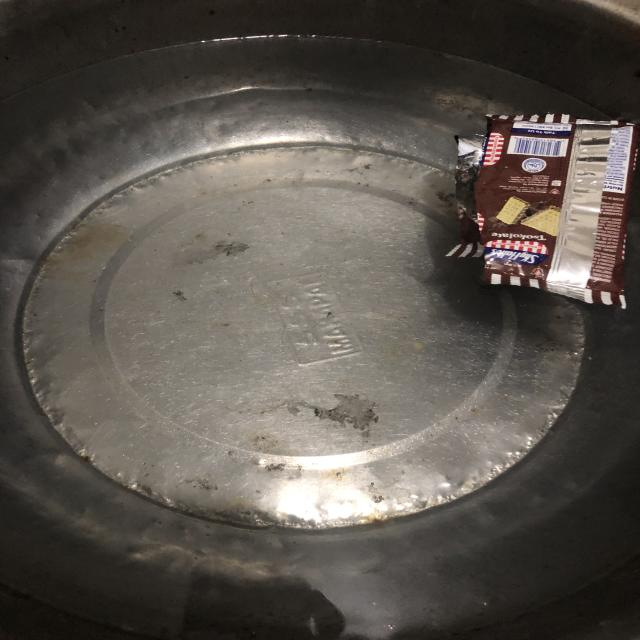Plastic Wrapper: (445, 114, 640, 309)
